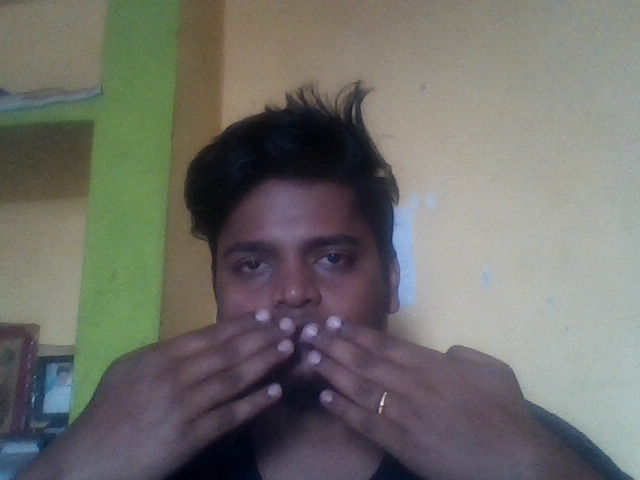thanks: (84, 301, 563, 480)
